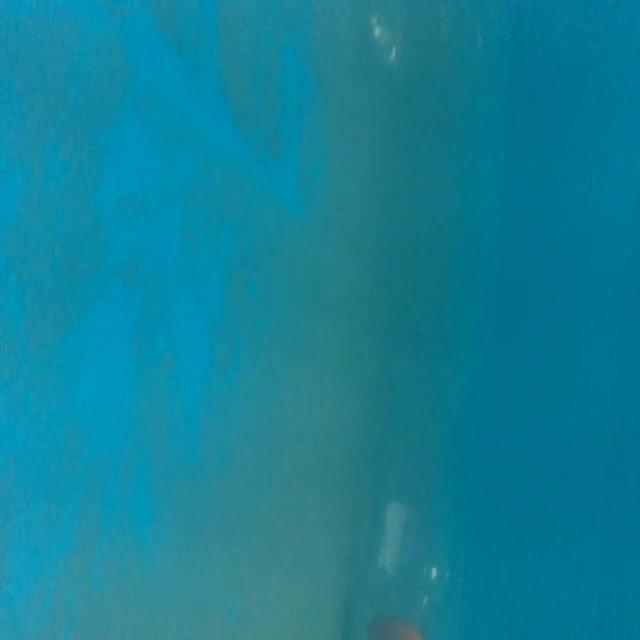plastic bottle: (357, 350, 474, 640)
